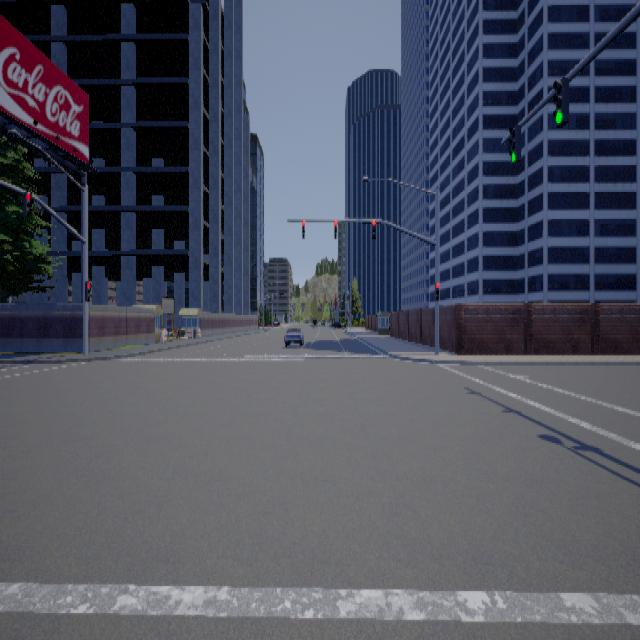green_light: (552, 76, 568, 126), (508, 123, 520, 163)
red_light: (22, 190, 31, 216), (84, 280, 90, 300), (434, 281, 438, 300), (371, 219, 375, 237), (334, 220, 337, 238), (302, 220, 304, 238)
vehicle: (283, 323, 302, 349)
